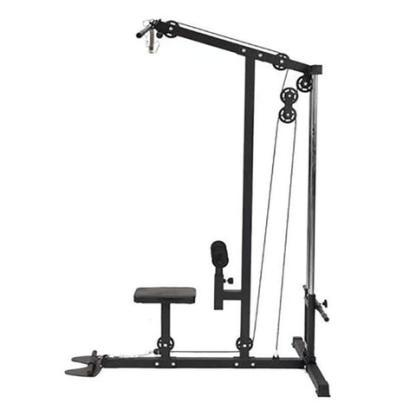Lat Pull Down: (56, 12, 349, 400)
